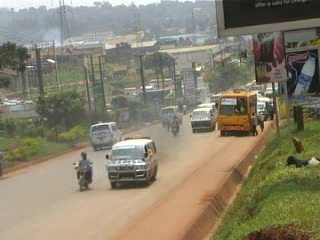Motorcycle: (69, 149, 95, 192), (168, 113, 179, 137)
